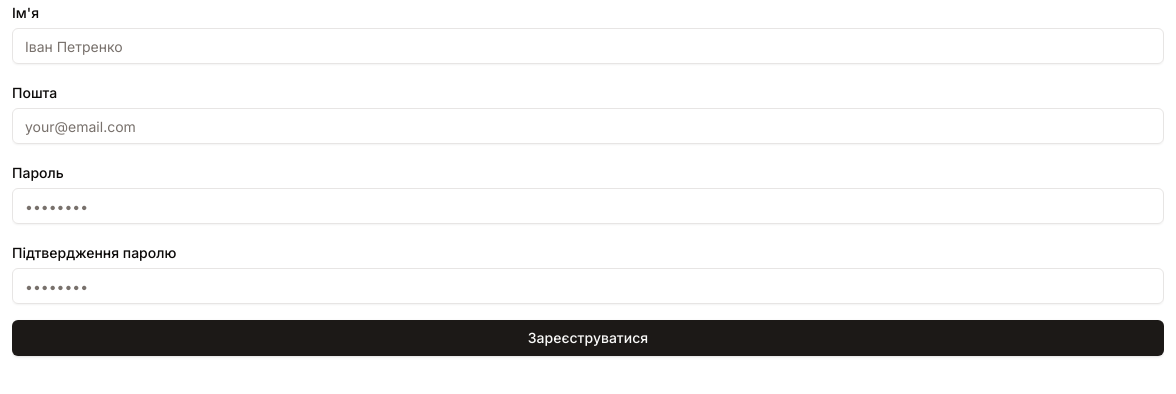
Test: SignUpForm Integration › checks if passwords match
Type "Test User" into the field labelled "Ім'я" at [588, 46], box [12, 28, 1164, 64]
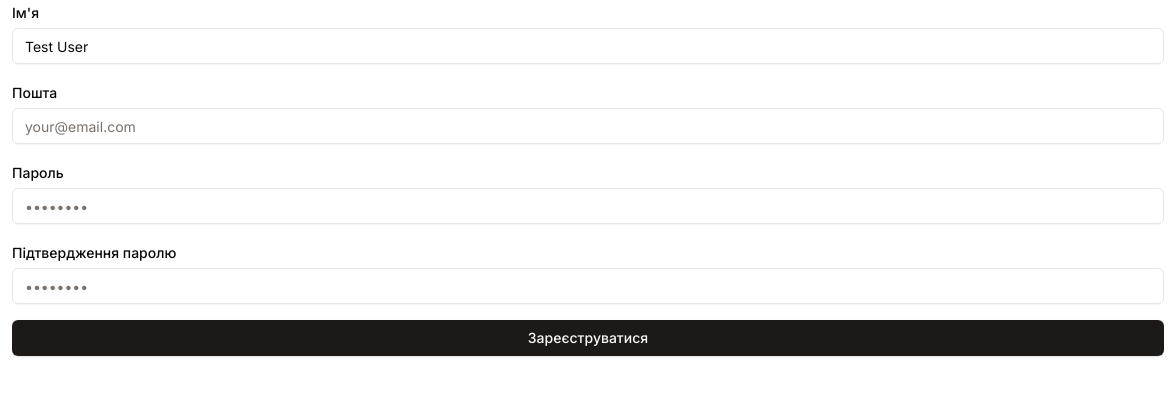
Type "test@example.com" into the field labelled "Пошта" at [588, 126], box [12, 108, 1164, 144]
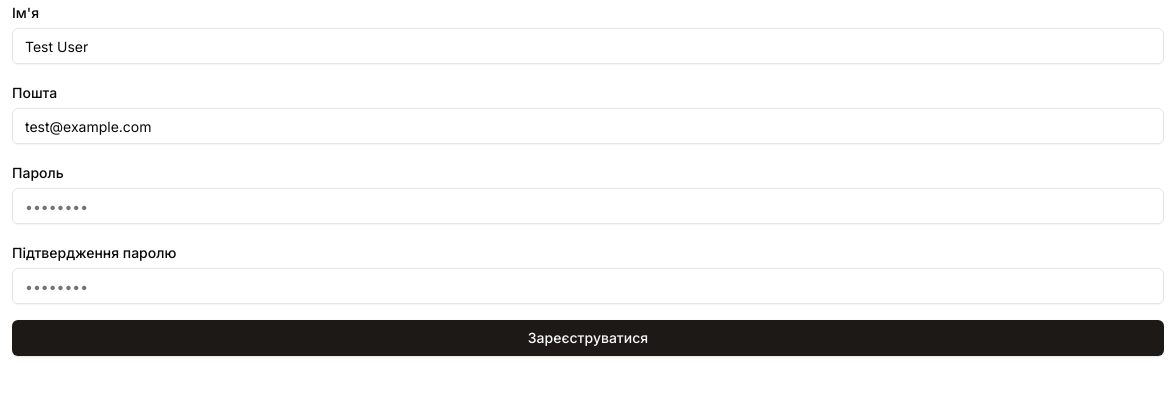
Type "password123" into the password field labelled "Пароль" at [588, 206], box [12, 188, 1164, 224]
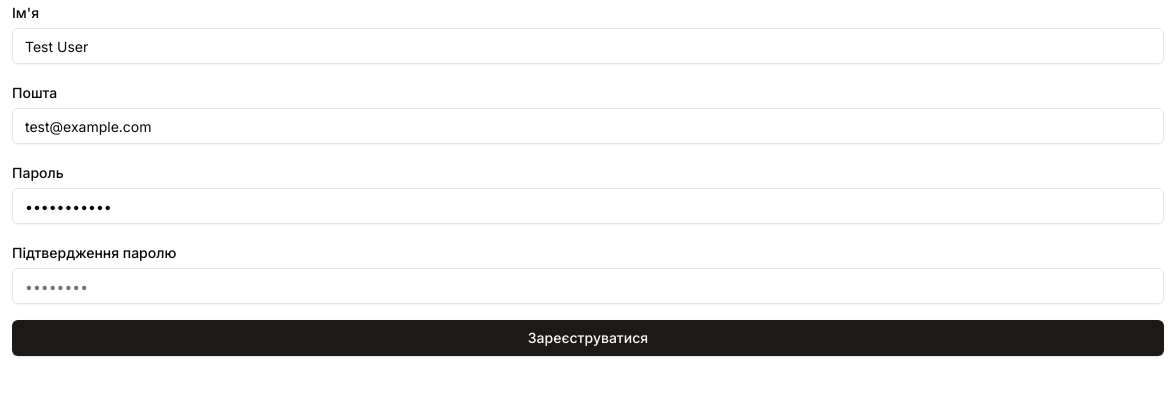
Type "password456" into the password field labelled "Підтвердження паролю" at [588, 286], box [12, 268, 1164, 304]
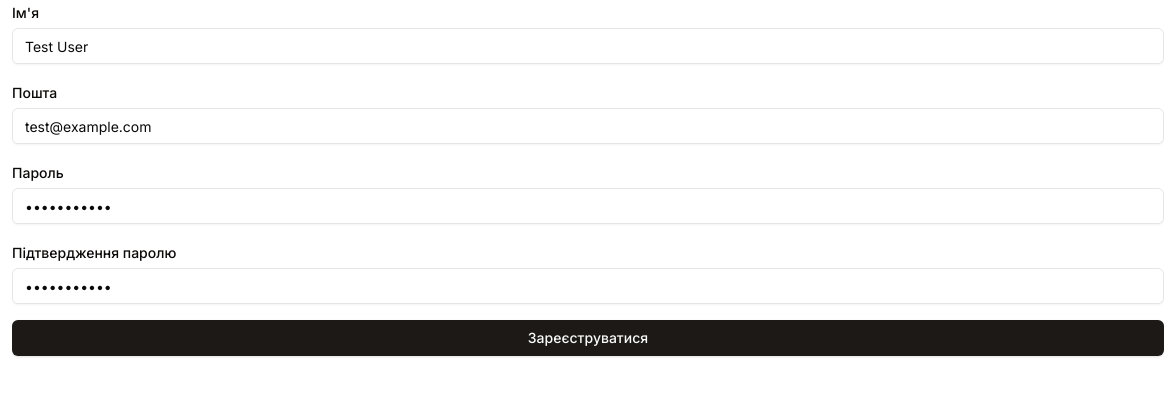
Click the button "Зареєструватися" at [588, 338], box [12, 320, 1164, 356]
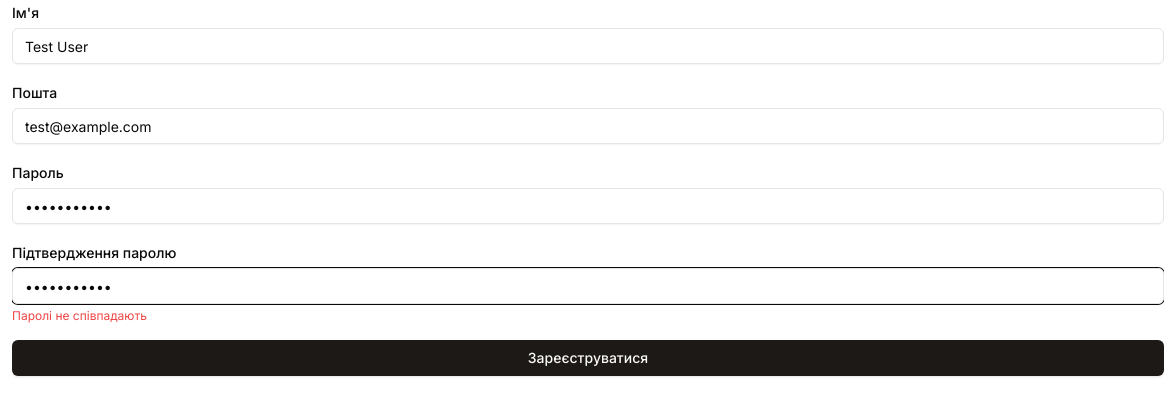
Check: the text "Паролі не співпадають" is shown, box [12, 308, 147, 323]
